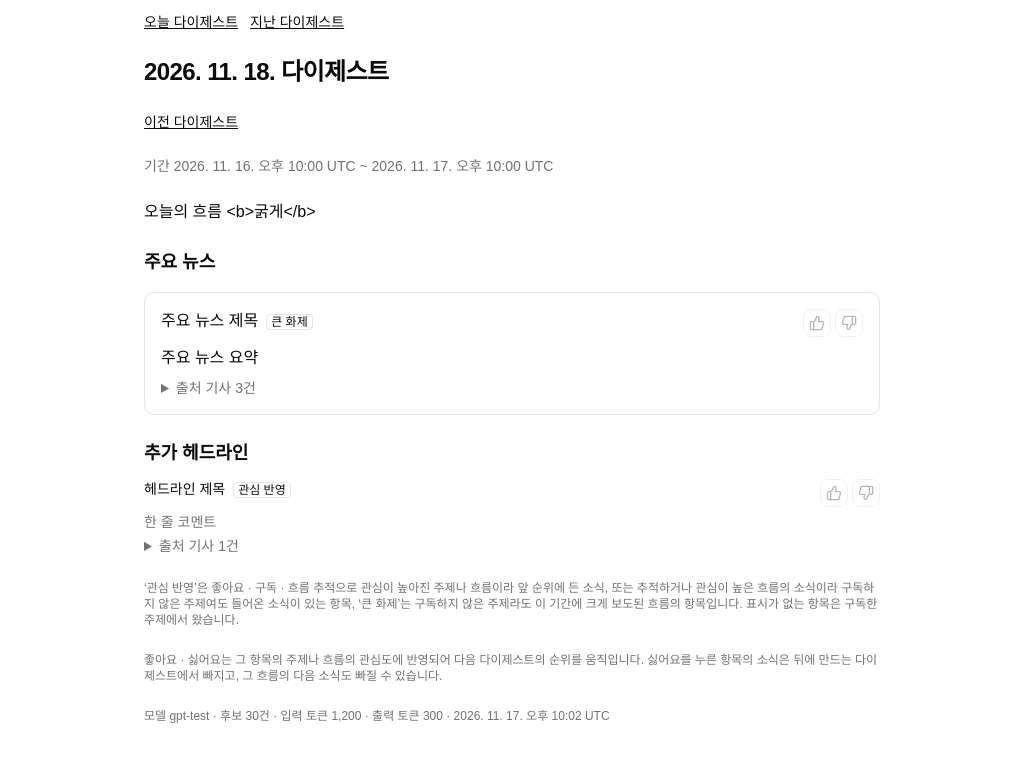
DigestDayPage › 항목의 출처 기사 목록은 기본으로 접혀 있고 요약 줄을 누르면 펼쳐진다
Click the heading "출처 기사 3건": point(216, 388) [176, 380, 256, 396]
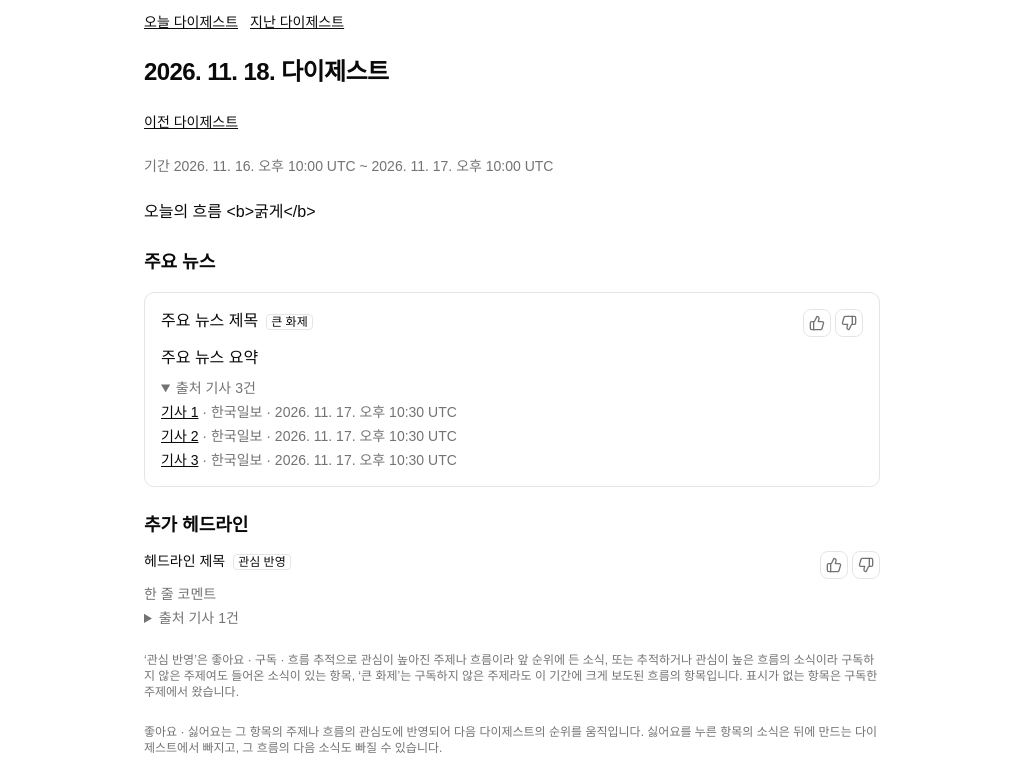
Expected: the link "기사 1" is shown, [161, 404, 198, 420]
